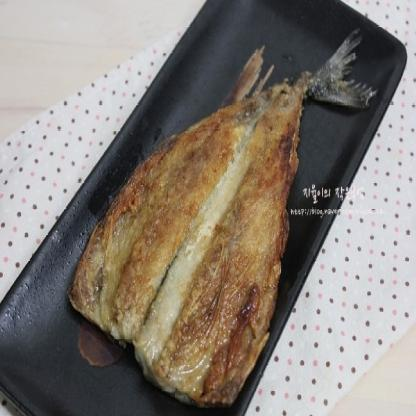Peixe: (63, 25, 375, 416)
